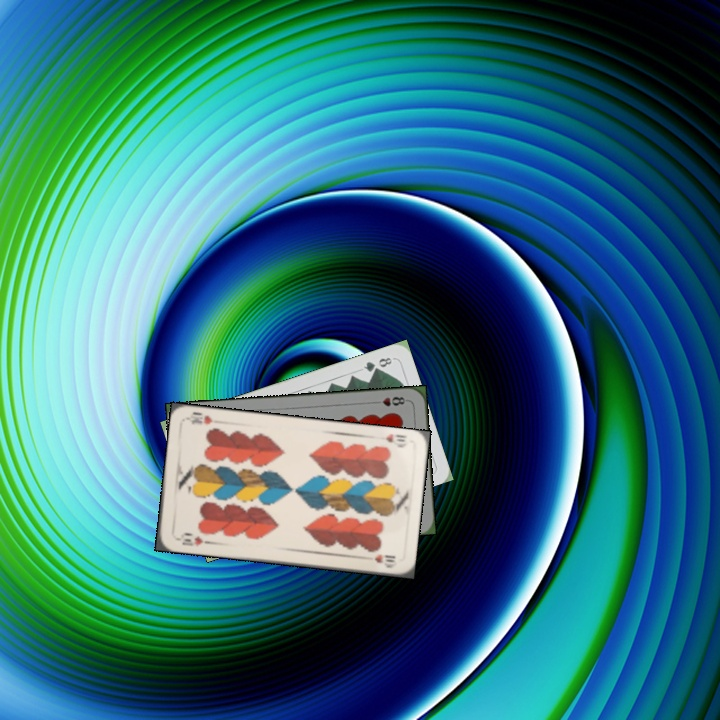G8: (359, 353, 395, 374)
H10: (171, 529, 212, 549), (381, 430, 409, 450)
H8: (370, 393, 410, 409)
